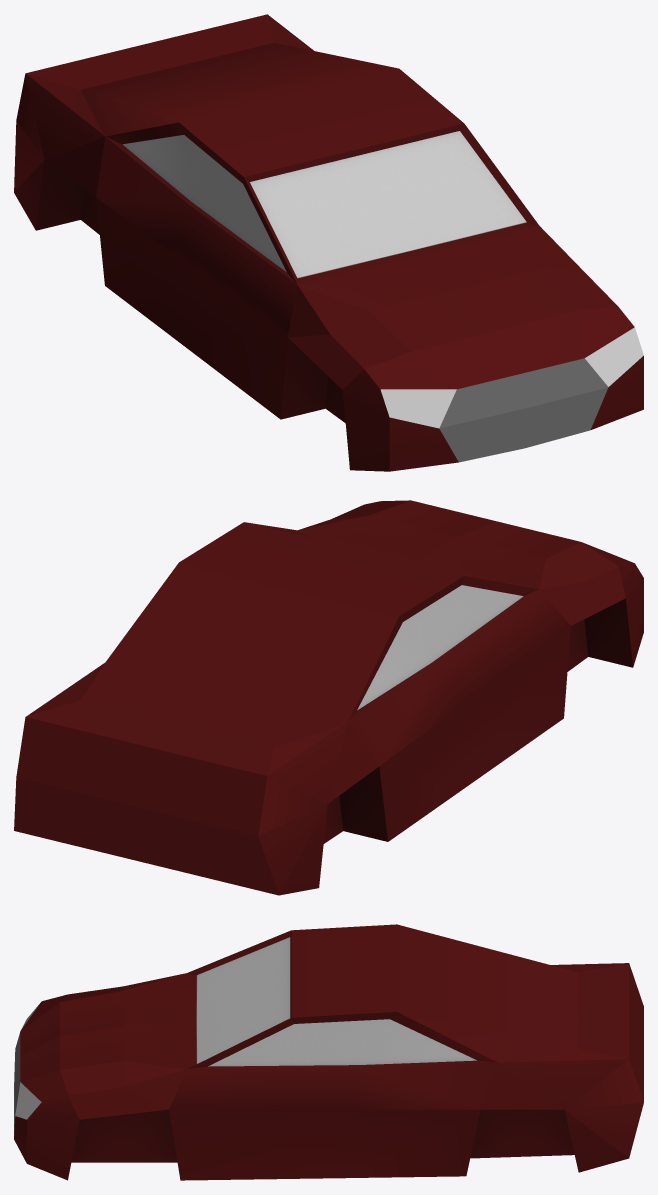
File: CarModel_Red.fbx
3 views of the same model, one above another, from view 1: azimuth 30°, elevation 25°; view 2: azimuth 150°, elevation 25°; view 3: azimuth 270°, elevation 25° (orthographic). The views are drawn at different scales.
Visible parts, largest first — view 1: CarModel_2_Ref:pCube5; view 2: CarModel_2_Ref:pCube5; view 3: CarModel_2_Ref:pCube5.
Part boxes in pixels (x1,y1,x2,y2): CarModel_2_Ref:pCube5: (14,14,643,471); CarModel_2_Ref:pCube5: (14,500,643,895); CarModel_2_Ref:pCube5: (14,924,643,1180).
Bounding box in the file's own units: 2.03 × 1.31 × 4.81.
1 material, 1 textured.
